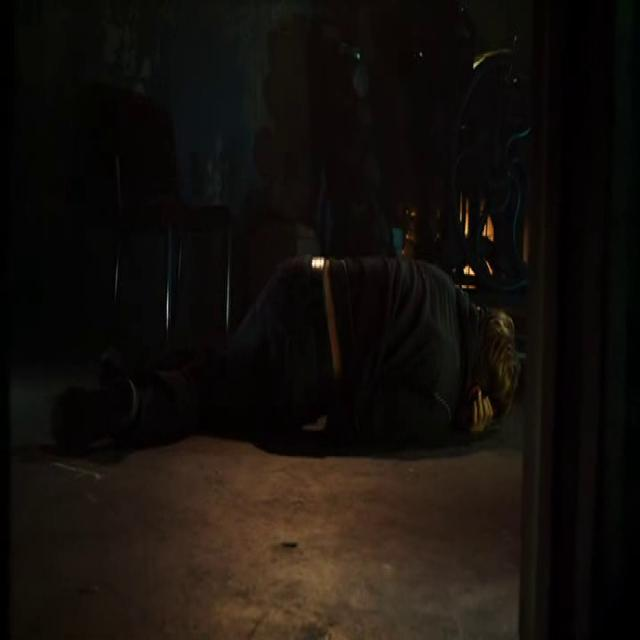People: (65, 285, 545, 528)
chair: (88, 48, 232, 343)
